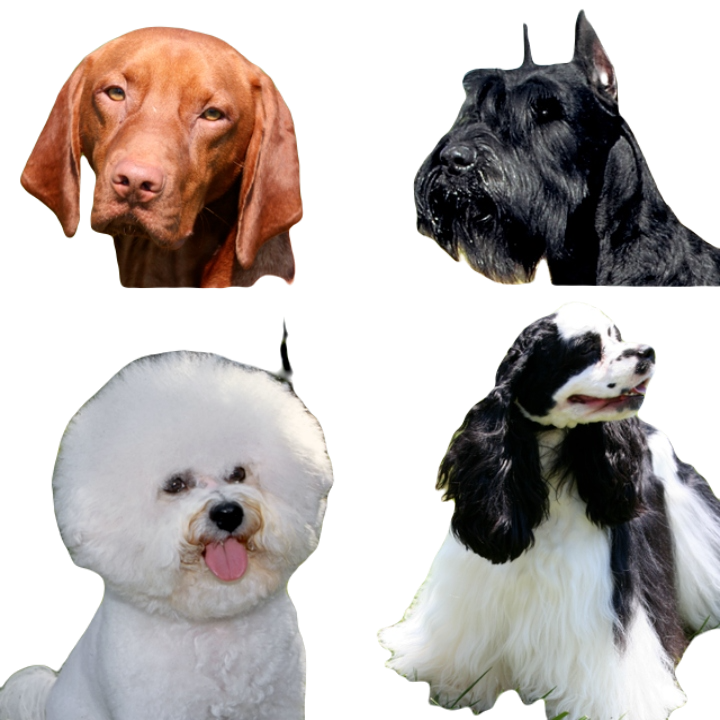Dog: (396, 311, 719, 719), (5, 345, 328, 719), (409, 15, 716, 282), (19, 23, 300, 291)
